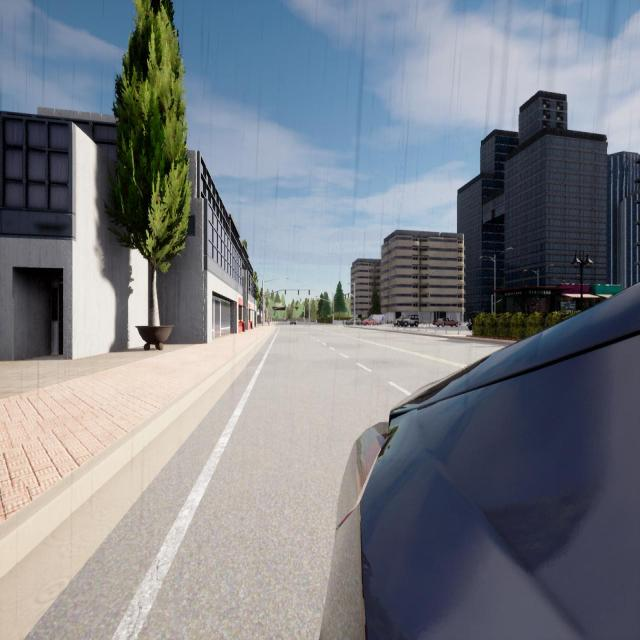Vehicle: (321, 284, 639, 638), (396, 315, 418, 327), (362, 315, 385, 324), (437, 318, 458, 327), (346, 318, 360, 325), (468, 316, 473, 330), (290, 318, 296, 324)
traffic_light: (308, 290, 310, 295), (332, 310, 334, 314), (300, 298, 302, 302), (298, 290, 299, 295), (345, 294, 346, 299), (285, 290, 286, 294), (348, 294, 349, 298), (308, 299, 309, 302), (318, 299, 318, 302)
